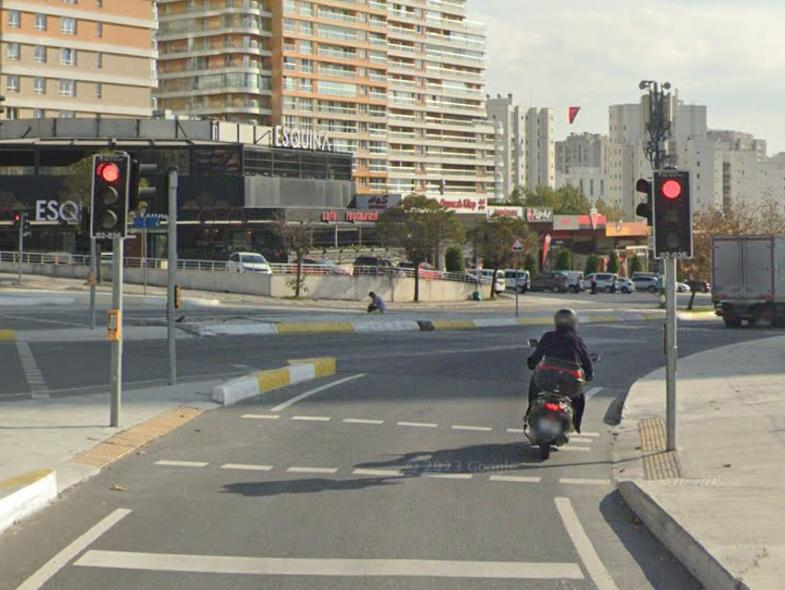redlight: (648, 167, 700, 262), (90, 150, 133, 245)
